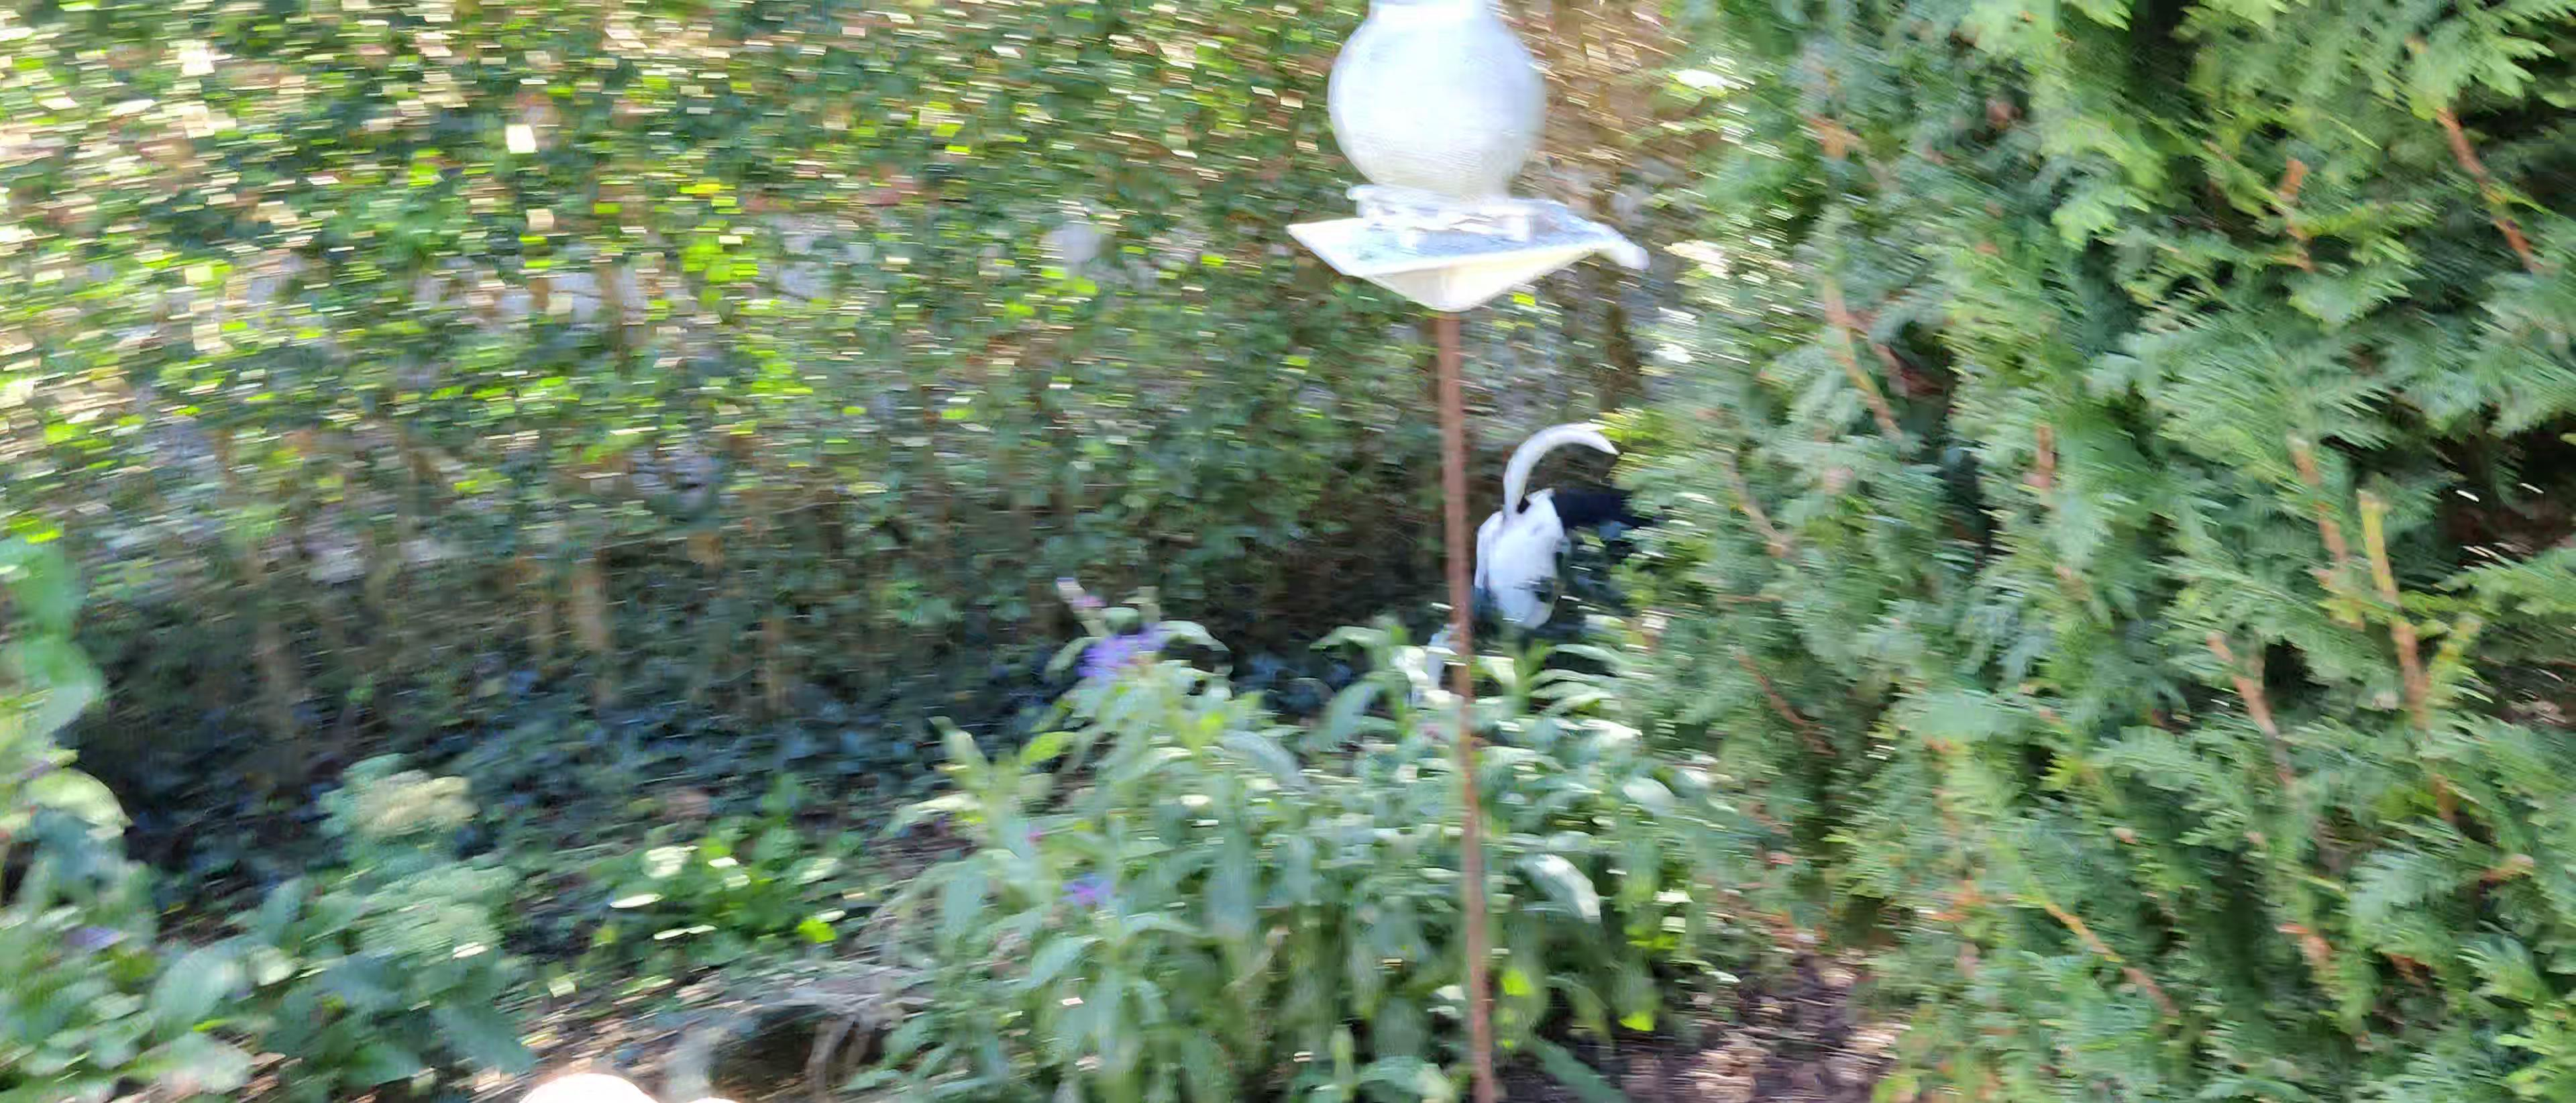Dog: (1457, 406, 1702, 653)
